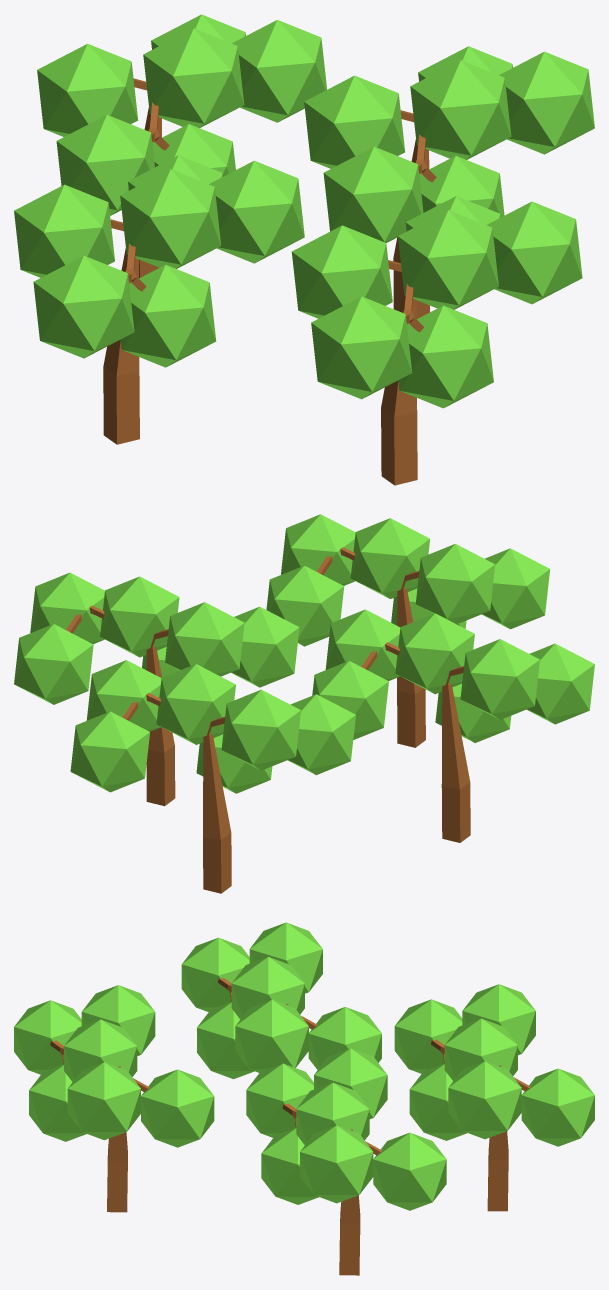
The model's file is trees.fbx.
3 renders of one model, top to bottom at view 1: azimuth 30°, elevation 25°; view 2: azimuth 150°, elevation 25°; view 3: azimuth 270°, elevation 25°, orthographic. The views are drawn at different scales.
Parts seen in each view (by area): view 1: Icosphere.014, Icosphere.021, Icosphere.017, Icosphere.005, Icosphere.018, Icosphere.006, Icosphere.019, Icosphere.016, Icosphere.007, Icosphere.009, Icosphere.012, Icosphere.023 (+16 smaller); view 2: Icosphere.001, Icosphere.003, Icosphere.008, Icosphere.013, Icosphere.022, Icosphere.010, Icosphere.017, Icosphere.006, Icosphere.005, Icosphere.018, Icosphere.020, Cube (+15 smaller); view 3: Icosphere.004, Icosphere.007, Icosphere.019, Icosphere.008, Icosphere.003, Icosphere.020, Icosphere.016, Icosphere.002, Icosphere.014, Icosphere.009, Icosphere.021, Icosphere.006 (+15 smaller).
Part boxes in pixels (box(x1,y1,x2,y2)): Icosphere.014: box(33, 255, 134, 358); Icosphere.021: box(311, 296, 412, 399); Icosphere.017: box(120, 169, 221, 268); Icosphere.005: box(143, 28, 244, 127); Icosphere.018: box(398, 210, 498, 309); Icosphere.006: box(410, 60, 511, 159); Icosphere.019: box(486, 201, 582, 304); Icosphere.016: box(209, 160, 304, 263); Icosphere.007: box(499, 51, 594, 154); Icosphere.009: box(323, 146, 423, 242); Icosphere.012: box(120, 264, 216, 367); Icosphere.023: box(398, 305, 493, 408); Icosphere.001: box(221, 689, 300, 770); Icosphere.003: box(70, 711, 149, 792); Icosphere.008: box(14, 624, 93, 704); Icosphere.013: box(460, 639, 539, 719); Icosphere.022: box(415, 544, 495, 624); Icosphere.010: box(165, 602, 244, 676); Icosphere.017: box(395, 613, 474, 694); Icosphere.006: box(100, 576, 179, 657); Icosphere.005: box(156, 664, 235, 744); Icosphere.018: box(350, 518, 429, 598); Icosphere.020: box(266, 565, 344, 646); Cube: box(122, 693, 231, 893); Icosphere.004: box(448, 1061, 521, 1139); Icosphere.007: box(300, 1125, 373, 1203); Icosphere.019: box(67, 1062, 140, 1140); Icosphere.008: box(373, 1132, 446, 1210); Icosphere.003: box(521, 1068, 594, 1146); Icosphere.020: box(141, 1069, 214, 1147); Icosphere.016: box(235, 999, 308, 1072); Icosphere.002: box(394, 999, 462, 1073); Icosphere.014: box(181, 937, 249, 1011); Icosphere.009: box(246, 1063, 313, 1137); Icosphere.021: box(14, 1000, 81, 1074); Icosphere.006: box(296, 1082, 369, 1144).
Bounding box in the file's own units: 2544 × 1049 × 2691.
